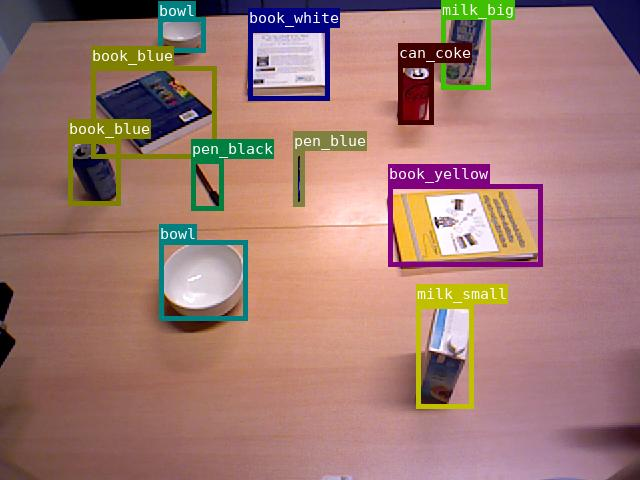book_blue: (91, 66, 216, 158), (68, 139, 120, 205)
book_white: (248, 28, 329, 100)
book_yellow: (388, 184, 542, 266)
bowl: (159, 240, 247, 320), (158, 17, 205, 52)
can_coke: (398, 63, 433, 124)
milk_big: (441, 0, 490, 89)
milk_small: (416, 304, 473, 408)
pen_black: (191, 159, 223, 210)
pen_blue: (293, 151, 304, 206)
